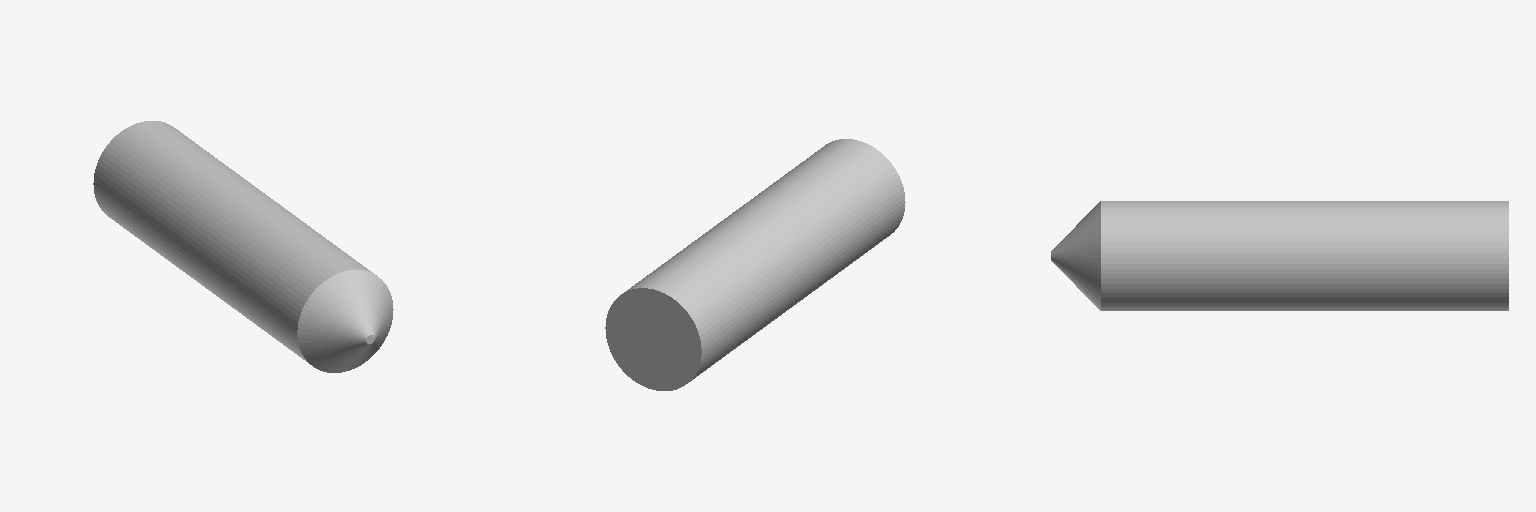
File: Candle3.obj
The picture shows the model from 3 angles: view 1: azimuth 30°, elevation 25°; view 2: azimuth 150°, elevation 25°; view 3: azimuth 270°, elevation 25°; orthographic projection.
Visible parts, largest first — view 1: Candle3_Cylinder.003; view 2: Candle3_Cylinder.003; view 3: Candle3_Cylinder.003.
Boxes of the visible parts, x1,y1,x2,y2 form: Candle3_Cylinder.003: [93, 121, 393, 372]; Candle3_Cylinder.003: [605, 139, 905, 390]; Candle3_Cylinder.003: [1051, 201, 1508, 310].
Bounding box in the file's own units: 0.1362 × 0.1362 × 0.5613.